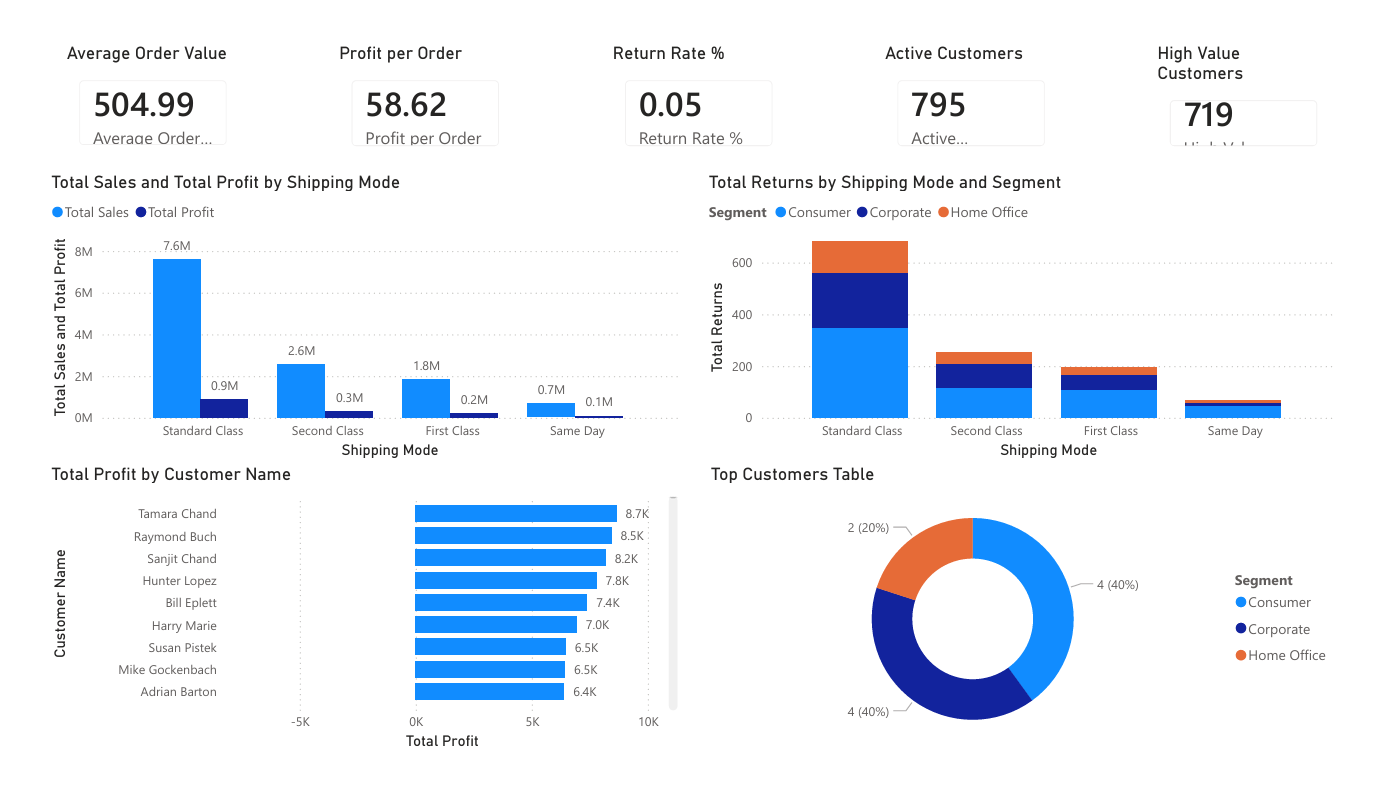

The page's visual inventory and layout, read from the dashboard file:
{"tool":"powerbi","page":{"name":"Customer Base Breakdown","canvas":[1280,720],"ordinal":3},"visuals":[{"type":"clusteredColumnChart","fields":{"Y":["Orders.Total Sales","Orders.Total Profit"],"Category":["Orders.Shipping Mode"]},"box":[20,140,610,280],"z":0},{"type":"clusteredBarChart","fields":{"Category":["Orders.Customer Name"],"Y":["Orders.Total Profit"]},"box":[20,420,610,280],"z":1000},{"type":"cardVisual","title":"Average Order Value","fields":{"Data":["Orders.Average Order Value"]},"box":[20,14,195,124],"z":2000},{"type":"cardVisual","title":"Profit per Order","fields":{"Data":["Orders.Profit per Order"]},"box":[281.2,14,195,125],"z":3000},{"type":"cardVisual","title":"Return Rate %","fields":{"Data":["Orders.Return Rate %"]},"box":[542.5,14,195,125],"z":4000},{"type":"cardVisual","title":"Active Customers","fields":{"Data":["Orders.Active Customers"]},"box":[803.8,14,195,125],"z":5000},{"type":"cardVisual","title":"High Value Customers","fields":{"Data":["Orders.High Value Customers"]},"box":[1065,14,195,125],"z":6000},{"type":"columnChart","fields":{"Y":["Orders.Total Returns"],"Category":["Orders.Shipping Mode"],"Series":["Orders.Segment"]},"box":[650,140,610,280],"z":7000},{"type":"donutChart","title":"Top Customers Table","fields":{"Category":["Orders.Segment"],"Y":["Orders.Active Customers"]},"box":[650,420,610,280],"z":8000}]}

Visuals, with their boxes in screenshot pixels (x1, y1, x2, y2), scaled from the page's 1280x720 canvas onto the 1385x798 screenshot:
clusteredColumnChart - Orders.Total Sales x Orders.Total Profit: left=22, top=155, right=682, bottom=466
clusteredBarChart - Orders.Customer Name x Orders.Total Profit: left=22, top=466, right=682, bottom=776
"Average Order Value" cardVisual: left=22, top=16, right=233, bottom=153
"Profit per Order" cardVisual: left=304, top=16, right=515, bottom=154
"Return Rate %" cardVisual: left=587, top=16, right=798, bottom=154
"Active Customers" cardVisual: left=870, top=16, right=1081, bottom=154
"High Value Customers" cardVisual: left=1152, top=16, right=1363, bottom=154
columnChart - Orders.Total Returns x Orders.Shipping Mode: left=703, top=155, right=1363, bottom=466
"Top Customers Table" donutChart: left=703, top=466, right=1363, bottom=776
